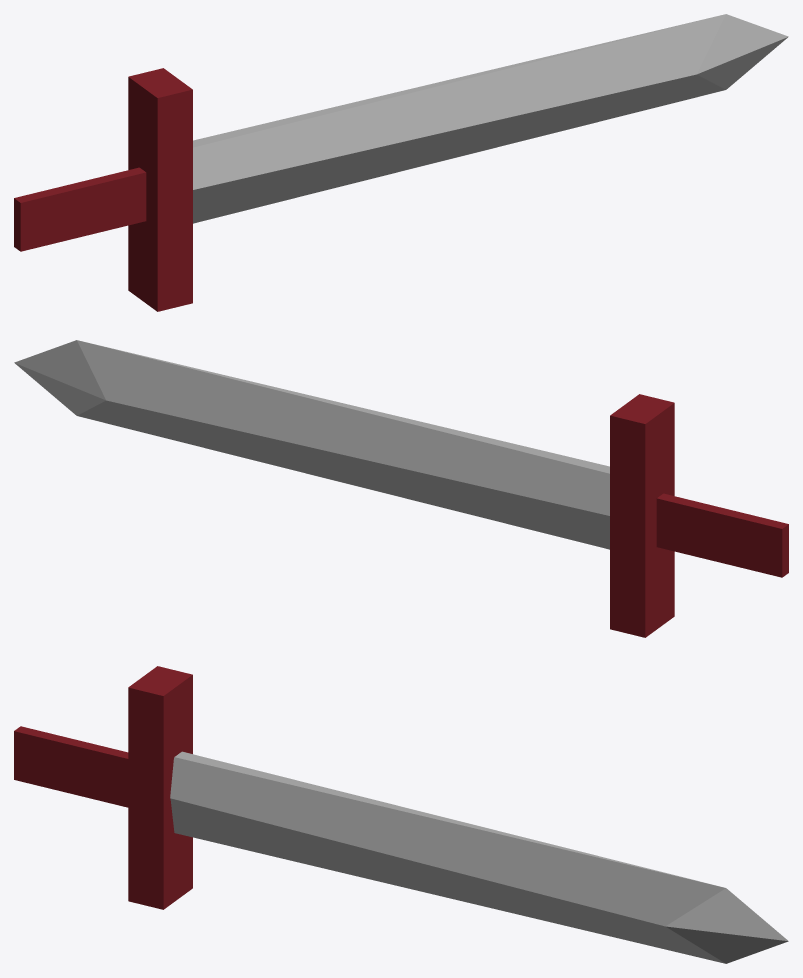
Rendered from RedSword.fbx.
The picture shows the model from 3 angles, top to bottom: view 1: azimuth 30°, elevation 25°; view 2: azimuth 150°, elevation 25°; view 3: azimuth 330°, elevation 25°; orthographic projection.
Visible parts, largest first — view 1: Cube.008; view 2: Cube.008; view 3: Cube.008.
Part boxes in pixels (bbox=[...]): Cube.008: bbox=[14, 14, 788, 311]; Cube.008: bbox=[14, 340, 788, 637]; Cube.008: bbox=[14, 666, 788, 963].
Bounding box in the file's own units: 61.47 × 16.27 × 4.33.
